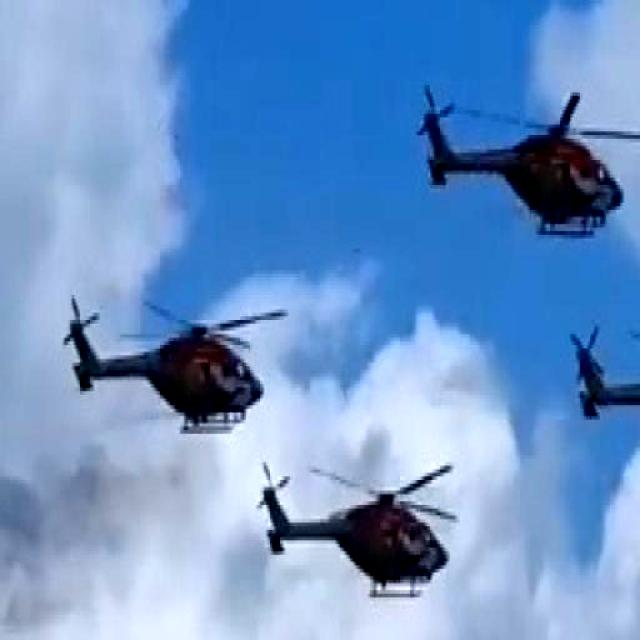drone: (415, 78, 640, 248), (62, 285, 288, 448), (255, 455, 464, 608), (570, 318, 640, 474)
